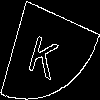K: (25, 24, 64, 81)
